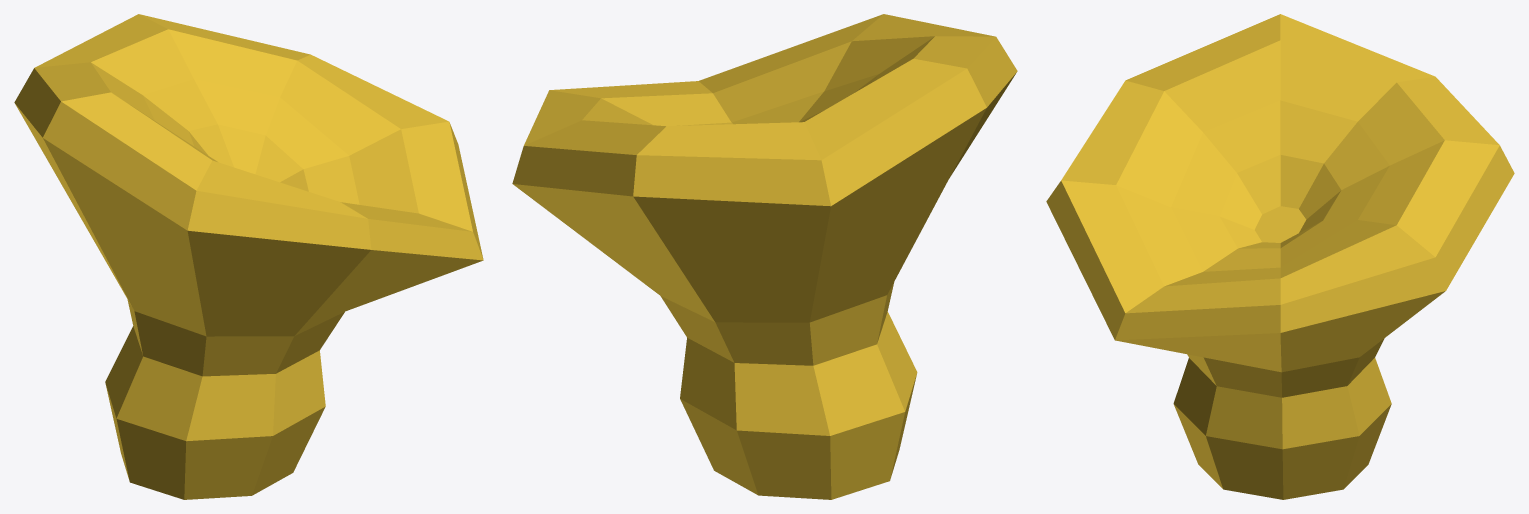
The model's file is propFlowerA.fbx.
3 views of the same model, side by side, from view 1: azimuth 30°, elevation 25°; view 2: azimuth 150°, elevation 25°; view 3: azimuth 270°, elevation 25° (orthographic). The views are drawn at different scales.
Visible parts, largest first — view 1: FlowerA; view 2: FlowerA; view 3: FlowerA.
Part boxes in pixels (box(x1,y1,x2,y2)): FlowerA: box(14, 14, 483, 499); FlowerA: box(512, 14, 1017, 499); FlowerA: box(1046, 14, 1514, 499).
Bounding box in the file's own units: 249 × 229 × 254.
